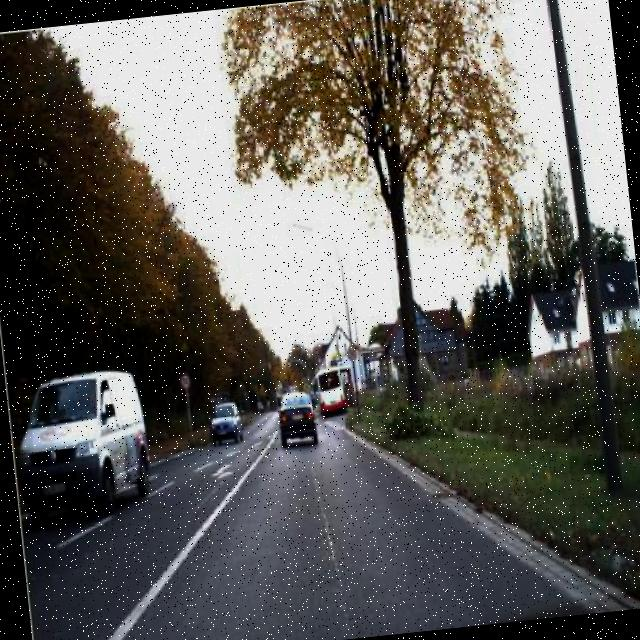Ograniczenie predkosci do 50: (176, 372, 192, 392), (346, 342, 358, 363)
